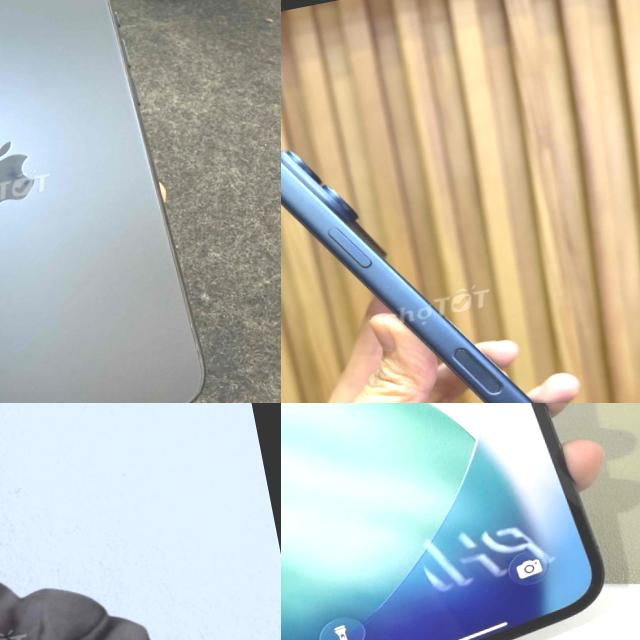gen_12_13: (281, 403, 621, 640)
gen_14: (0, 409, 281, 640)
gen_15: (0, 0, 231, 403)
gen_17: (281, 69, 631, 403)
